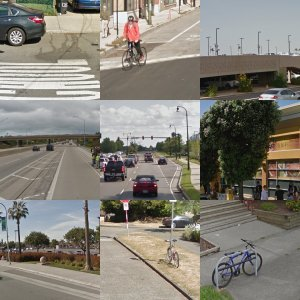公車: (100, 43, 148, 99)
消防栓: (1, 100, 62, 201), (44, 229, 83, 286)
紅綠燈: (277, 253, 292, 271)
